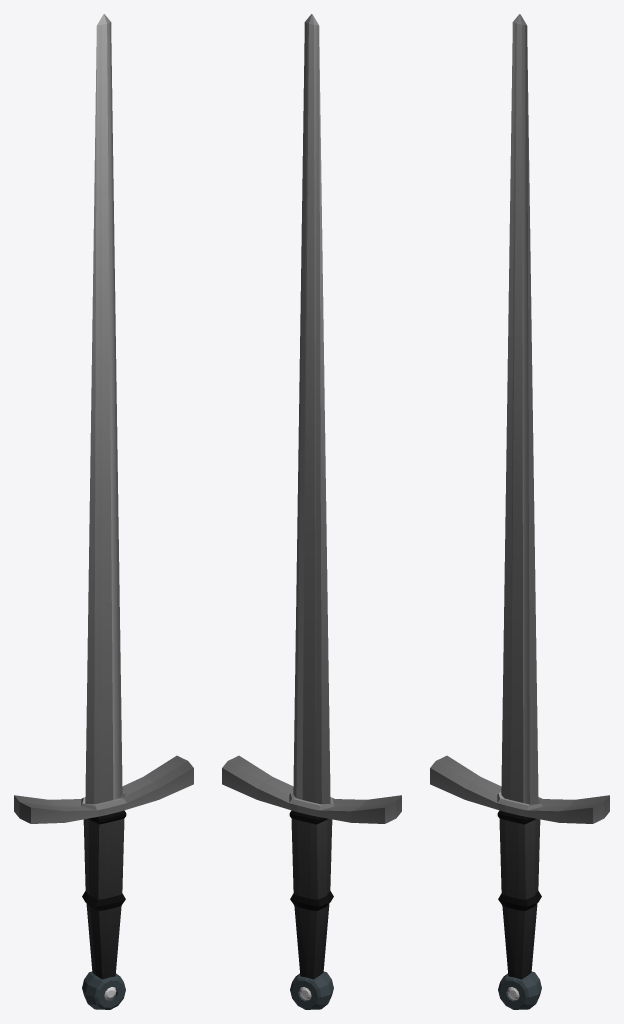
Rendered from Sword_EuropeanBroad.fbx.
3 renders of one model, left to right at view 1: azimuth 30°, elevation 25°; view 2: azimuth 150°, elevation 25°; view 3: azimuth 330°, elevation 25°, orthographic.
Visible parts, largest first — view 1: Sword_EuropeanBroad; view 2: Sword_EuropeanBroad; view 3: Sword_EuropeanBroad.
Boxes of the visible parts, x1,y1,x2,y2 form: Sword_EuropeanBroad: [14, 14, 193, 1009]; Sword_EuropeanBroad: [222, 14, 401, 1009]; Sword_EuropeanBroad: [430, 14, 609, 1009].
Size of the model in its own units: 68.31 by 386 by 12.68.
